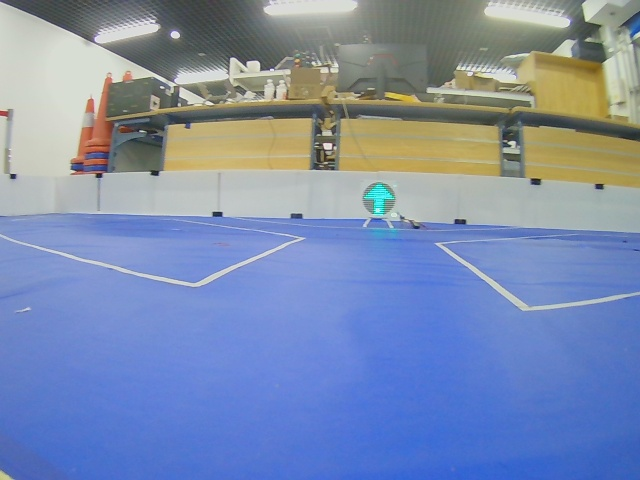straight_green: (362, 182, 396, 216)
